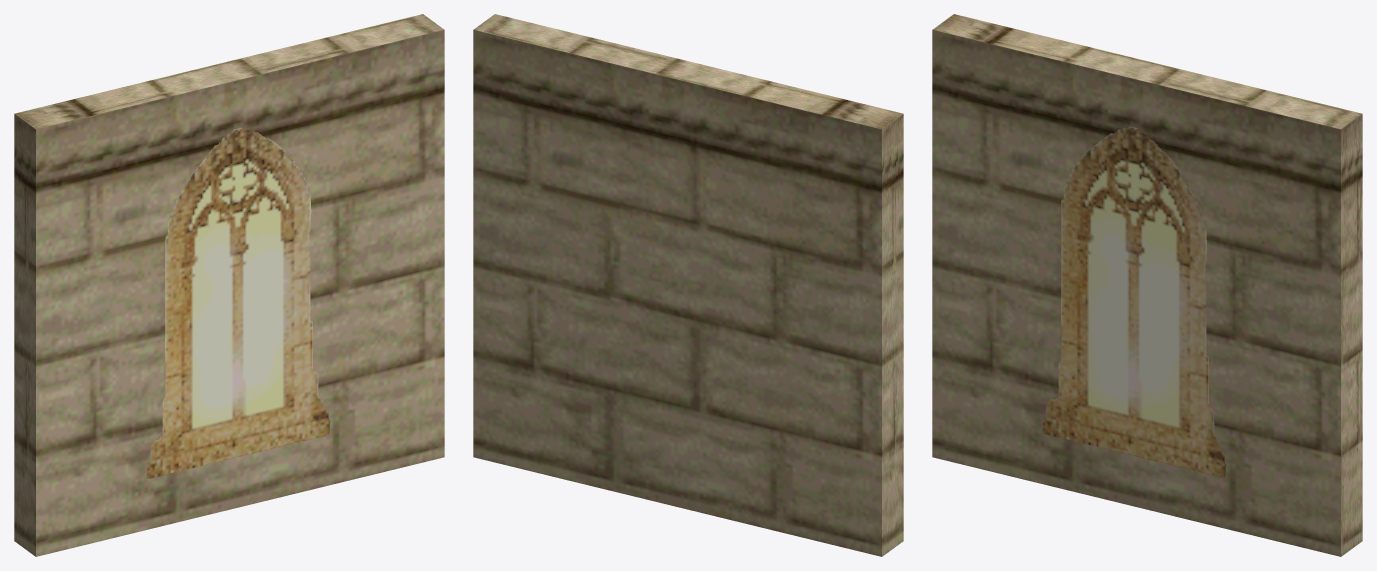
The model's file is Window01.obj.
3 views of the same model, side by side, from view 1: azimuth 30°, elevation 25°; view 2: azimuth 150°, elevation 25°; view 3: azimuth 330°, elevation 25° (orthographic).
Visible parts, largest first — view 1: Wall01_Cube, Window01_Plane; view 2: Wall01_Cube; view 3: Wall01_Cube, Window01_Plane.
Boxes of the visible parts, bbox=[...] form: Wall01_Cube: bbox=[14, 14, 444, 556]; Window01_Plane: bbox=[146, 127, 330, 478]; Wall01_Cube: bbox=[473, 14, 903, 556]; Wall01_Cube: bbox=[932, 14, 1362, 556]; Window01_Plane: bbox=[1042, 126, 1226, 477].
Bounding box in the file's own units: 4 × 4 × 0.37.
